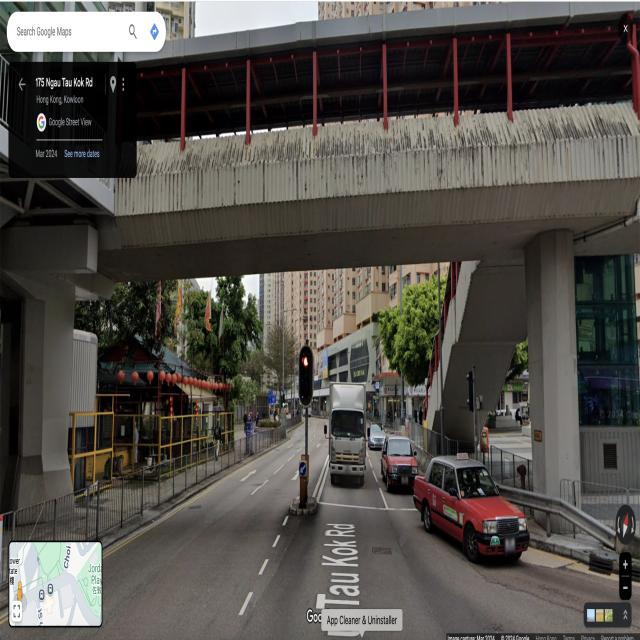Order-Sign: (300, 462, 306, 476)
